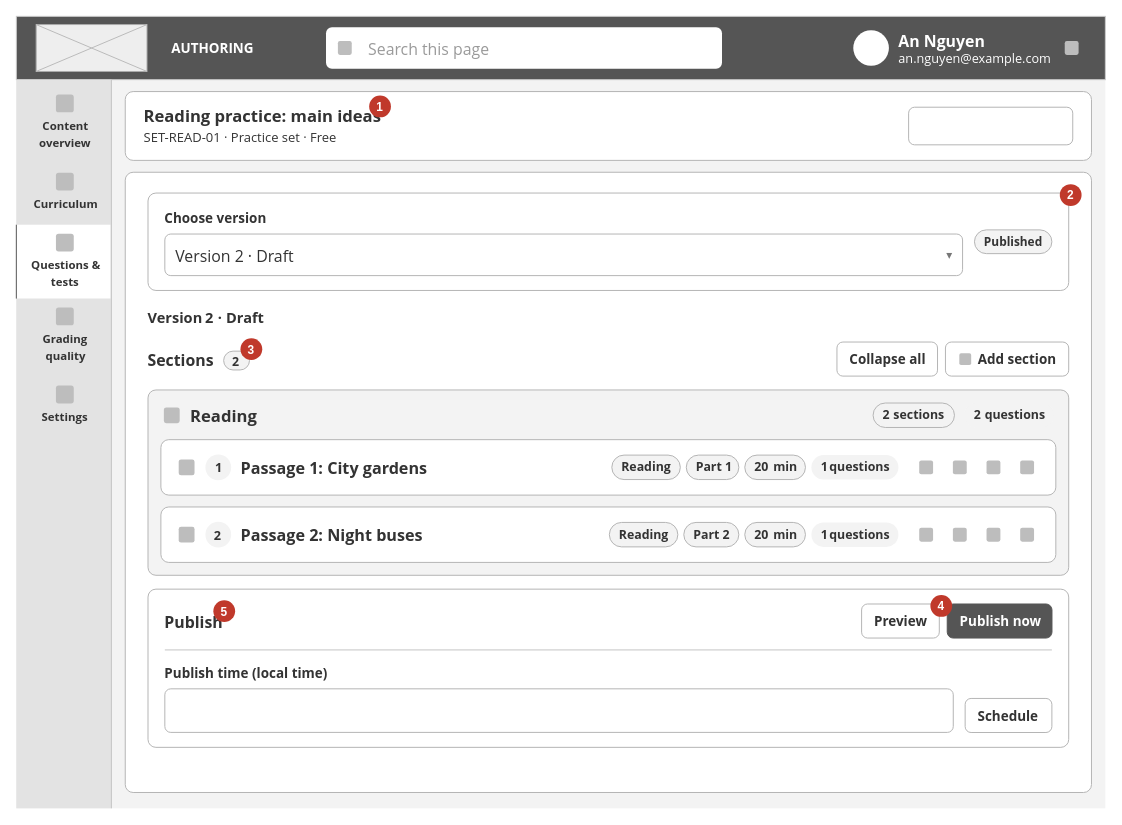
The diagram is 1122 pixels wide and 825 high, and some of its shapes have lost their labels. The centre of each missing label's shape, as x and y in pixels:
"AN" belongs at [870,47].
"Tests & packages" belongs at [990,125].
